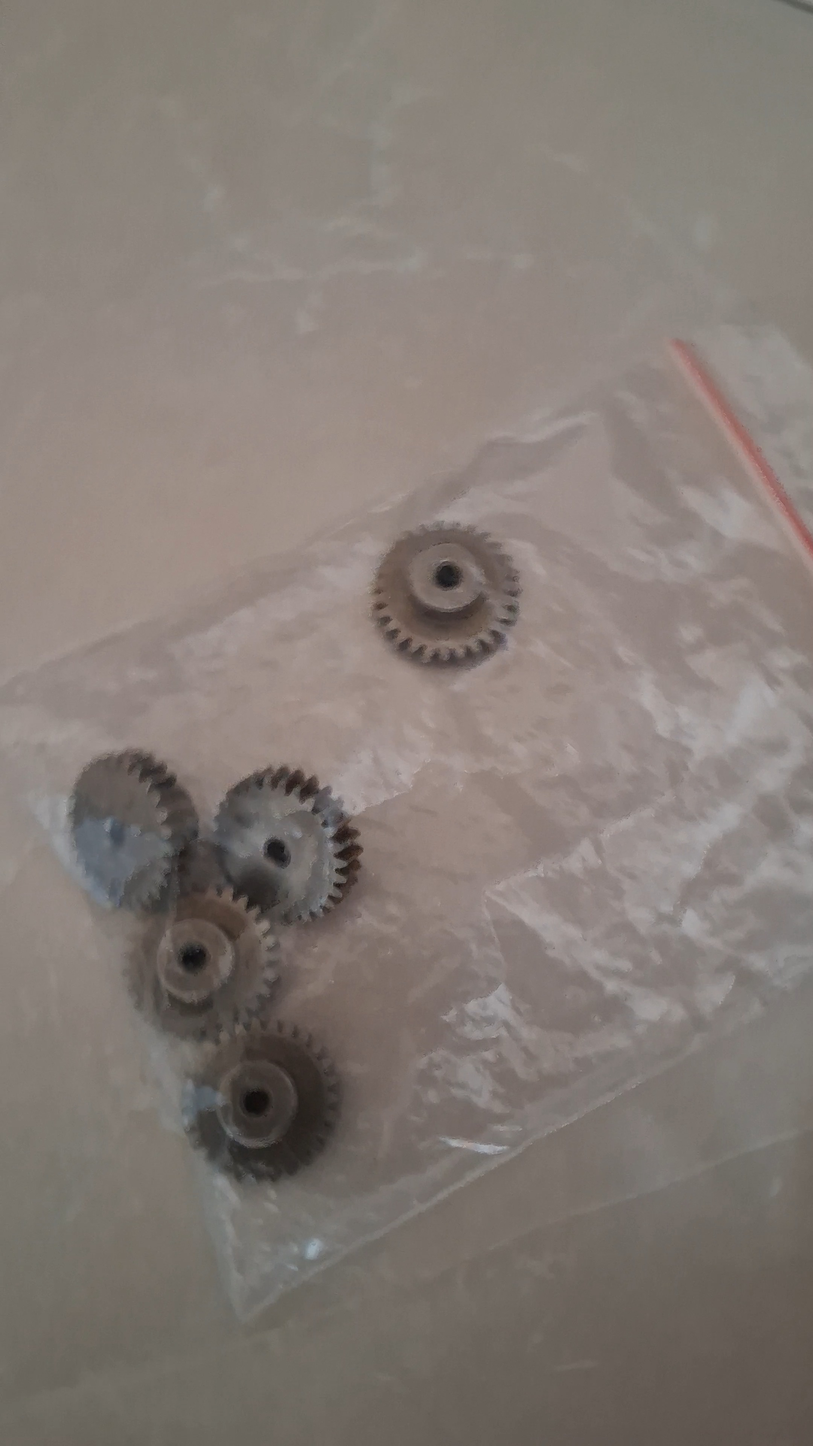spur gear: (184, 1021, 338, 1181), (128, 889, 278, 1041), (214, 767, 361, 922), (69, 750, 198, 909), (373, 524, 520, 663)
